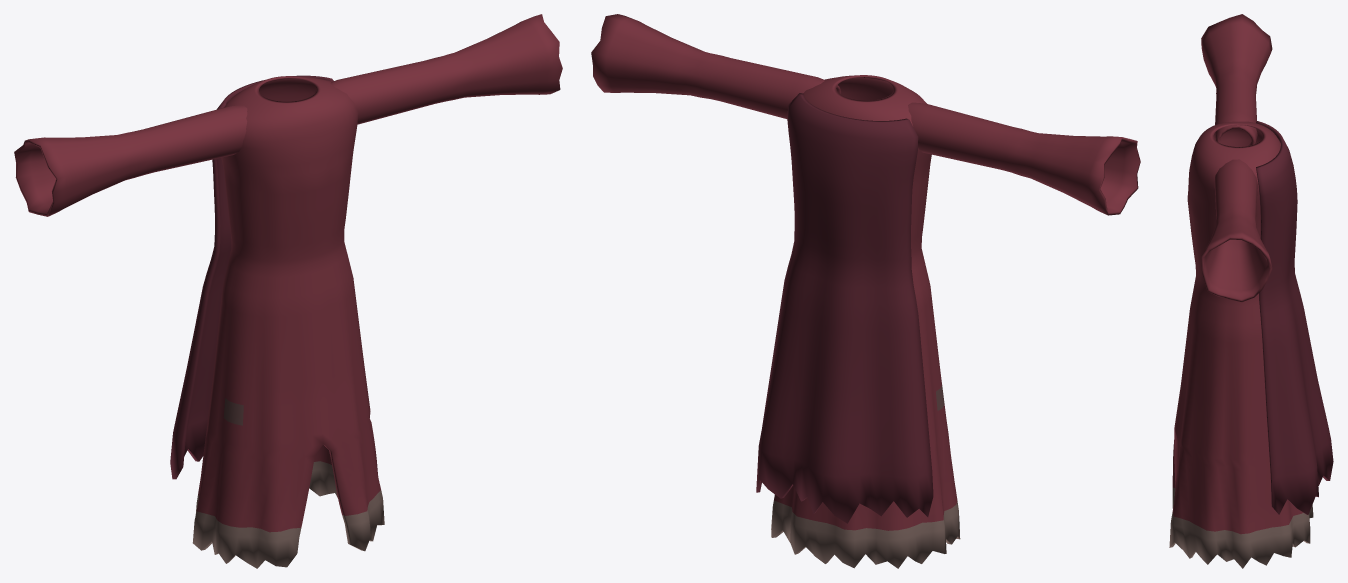
The model's file is SinGarment.fbx.
3 views of the same model, side by side, from view 1: azimuth 30°, elevation 25°; view 2: azimuth 150°, elevation 25°; view 3: azimuth 270°, elevation 25° (orthographic). The views are drawn at different scales.
Visible parts, largest first — view 1: SinGarment; view 2: SinGarment; view 3: SinGarment.
Part boxes in pixels (box(x1,y1,x2,y2)): SinGarment: box(14, 14, 562, 568); SinGarment: box(591, 14, 1140, 568); SinGarment: box(1169, 14, 1333, 568).
Size of the model in its own units: 88 by 74.9 by 27.31.
